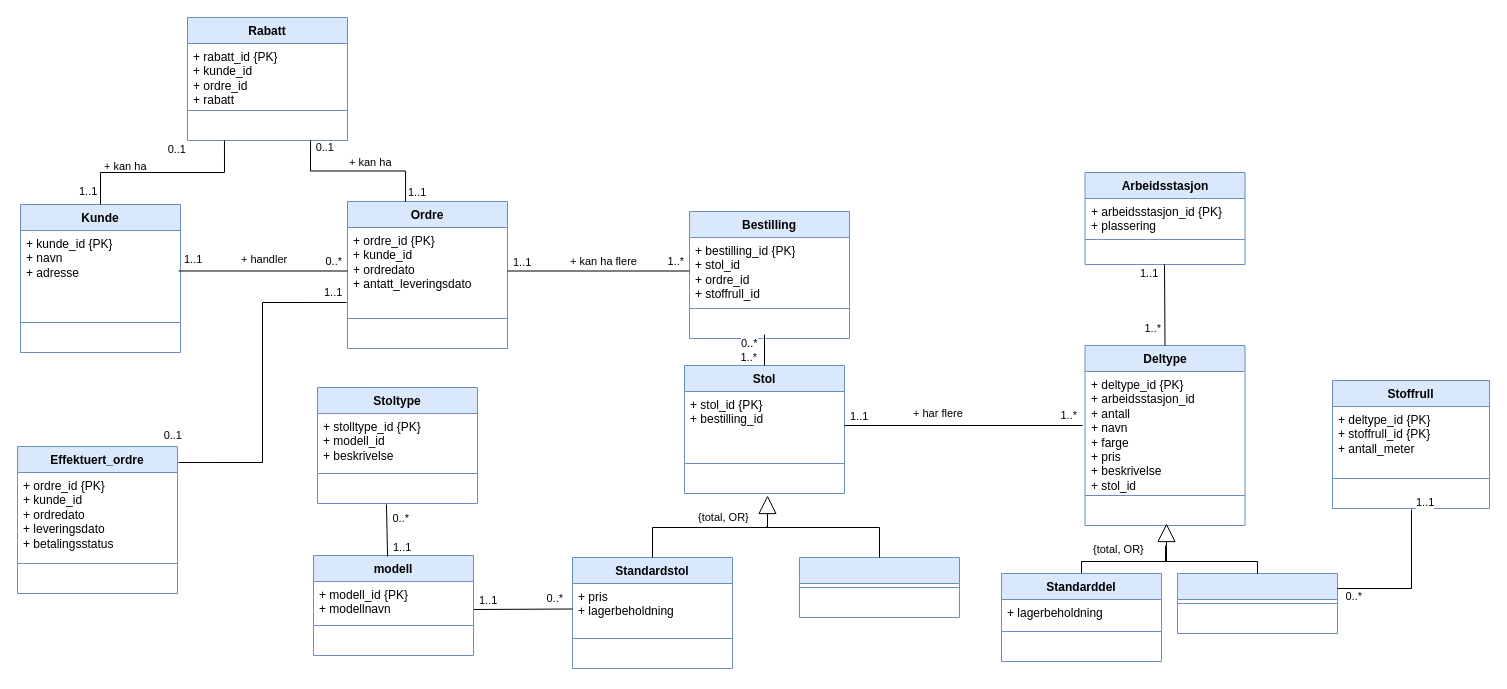
Some shapes in this 1507 by 689 pixel diagram are drawn without their labels. Here are the shapes that lost their labels. From the top down, the centre of each, then its label:
At point (879, 587): "Spesialstoler".
At point (1257, 603): "Stoff".
